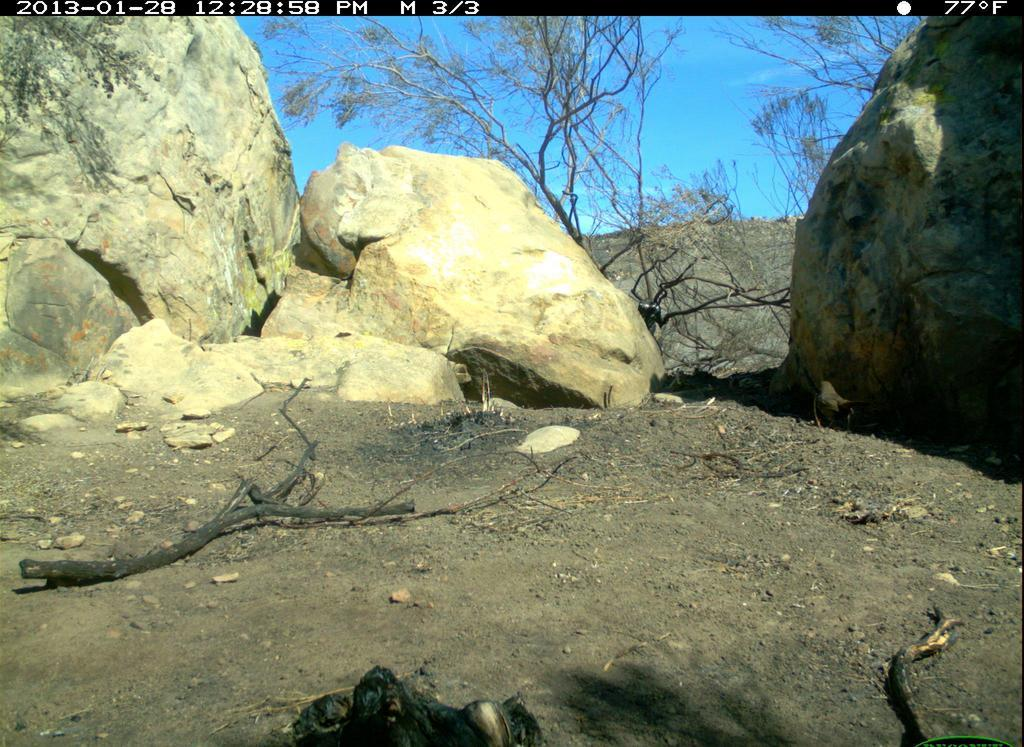bird: (807, 377, 881, 437)
